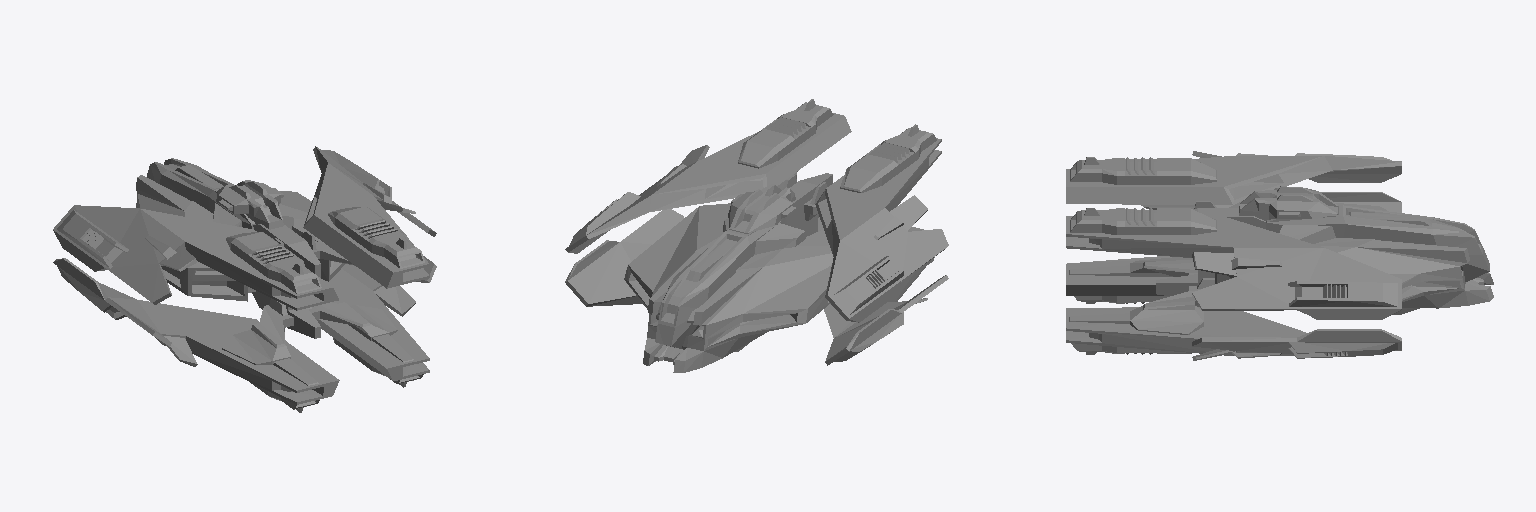
The picture shows the model from 3 angles: view 1: azimuth 30°, elevation 25°; view 2: azimuth 150°, elevation 25°; view 3: azimuth 270°, elevation 25°; orthographic projection.
Parts seen in each view (by area): view 1: SciFi_Fighter_AK5; view 2: SciFi_Fighter_AK5; view 3: SciFi_Fighter_AK5.
Boxes of the visible parts, x1=… form: SciFi_Fighter_AK5: x1=53, y1=146, x2=436, y2=412; SciFi_Fighter_AK5: x1=565, y1=99, x2=948, y2=372; SciFi_Fighter_AK5: x1=1066, y1=151, x2=1493, y2=360.
Bounding box in the file's own units: 3.95 × 1.91 × 5.07.